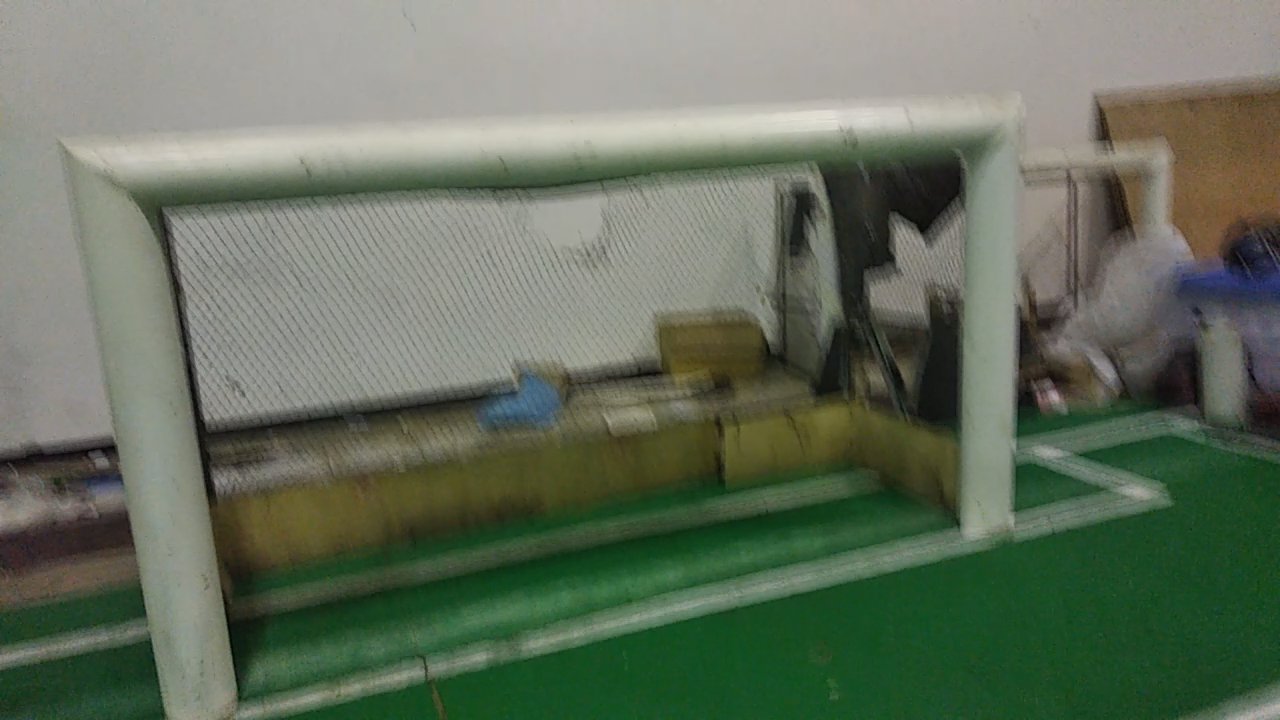gawang: (41, 83, 1038, 716)
